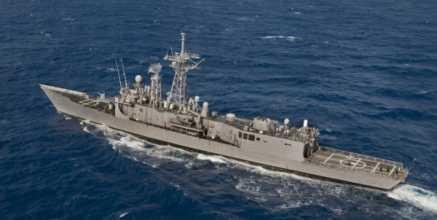warship: (33, 46, 415, 194)
